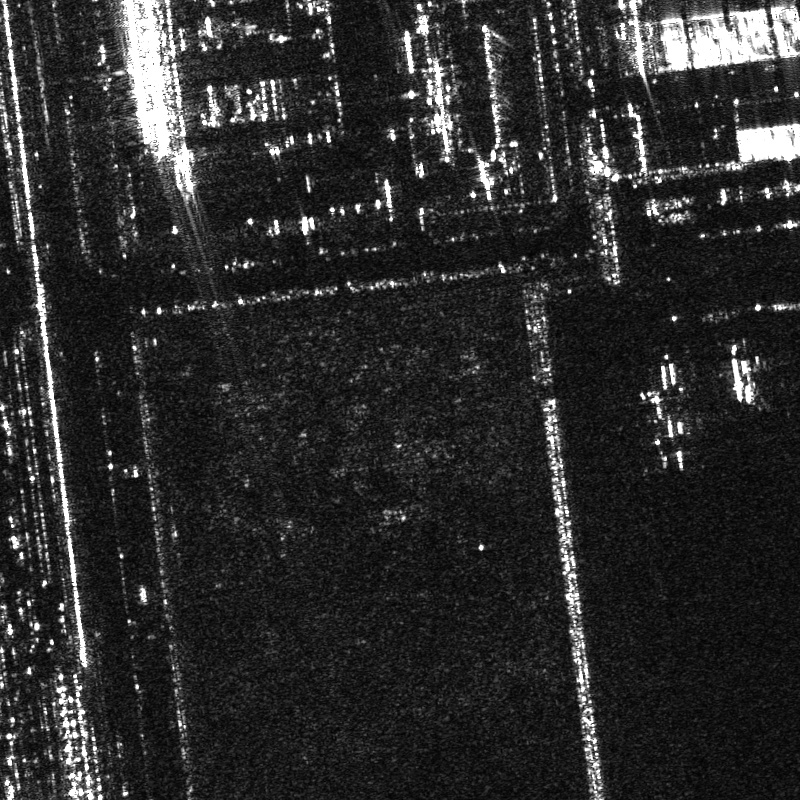Boeing787: (714, 342, 773, 405)
other: (618, 377, 695, 471)
